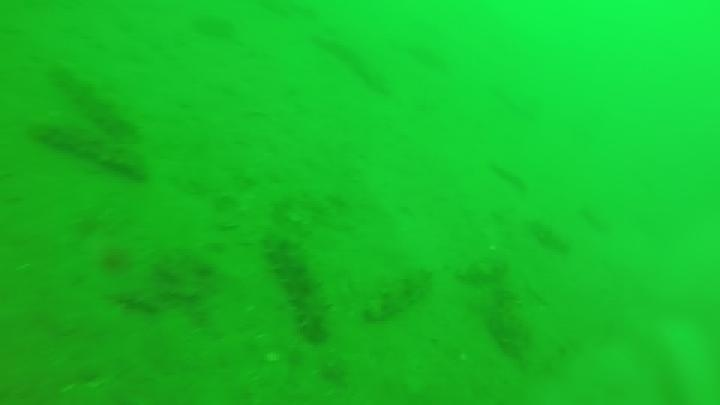holothurian: (260, 234, 334, 346), (29, 118, 150, 183), (49, 61, 142, 141), (474, 260, 534, 360), (361, 265, 434, 325)
